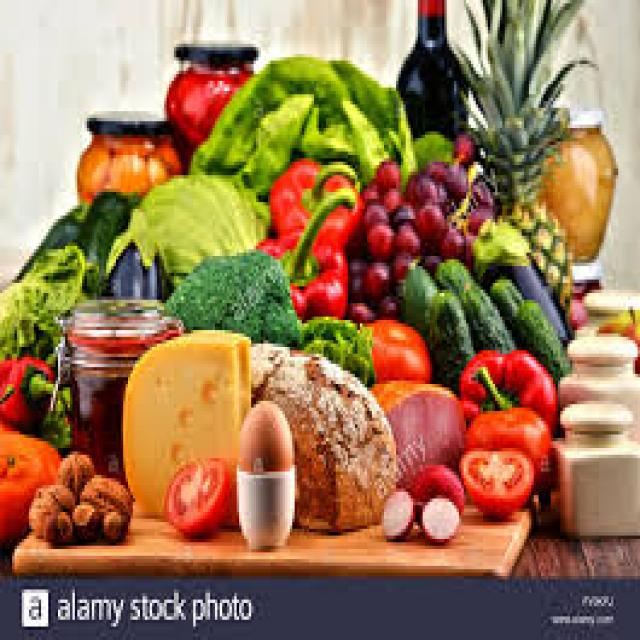organic waste: (188, 51, 418, 202), (452, 0, 596, 212), (244, 337, 394, 529), (118, 327, 244, 512), (130, 165, 270, 286), (160, 246, 300, 340), (254, 182, 350, 313), (471, 212, 567, 340), (0, 239, 97, 354), (498, 185, 568, 334), (370, 374, 466, 475), (456, 344, 558, 434), (268, 155, 365, 242), (464, 404, 550, 495), (0, 428, 58, 542), (78, 188, 136, 296), (102, 202, 166, 297), (10, 199, 84, 273), (297, 313, 374, 381), (456, 441, 529, 512), (164, 458, 230, 532), (423, 283, 471, 384), (510, 296, 568, 374), (454, 276, 510, 351), (0, 353, 53, 428), (365, 317, 430, 377), (237, 398, 290, 468), (398, 458, 462, 512), (77, 472, 133, 526), (594, 303, 638, 367), (406, 256, 437, 327), (415, 492, 459, 539), (53, 448, 92, 499), (27, 485, 72, 529), (488, 276, 524, 327), (413, 198, 447, 242), (413, 128, 449, 168), (44, 381, 65, 448), (382, 485, 411, 532), (362, 216, 394, 256), (435, 253, 473, 286), (362, 259, 392, 300), (403, 169, 437, 202), (41, 505, 70, 539), (96, 505, 125, 536), (70, 499, 97, 532), (444, 162, 468, 198), (449, 128, 474, 158), (442, 222, 466, 253), (374, 151, 398, 182), (394, 222, 415, 253), (355, 175, 382, 199), (285, 280, 304, 313), (425, 152, 449, 178), (360, 202, 386, 226), (0, 380, 12, 428), (389, 202, 413, 226), (379, 185, 399, 212), (374, 293, 401, 313), (348, 256, 362, 293), (389, 253, 410, 276), (345, 300, 367, 313)
